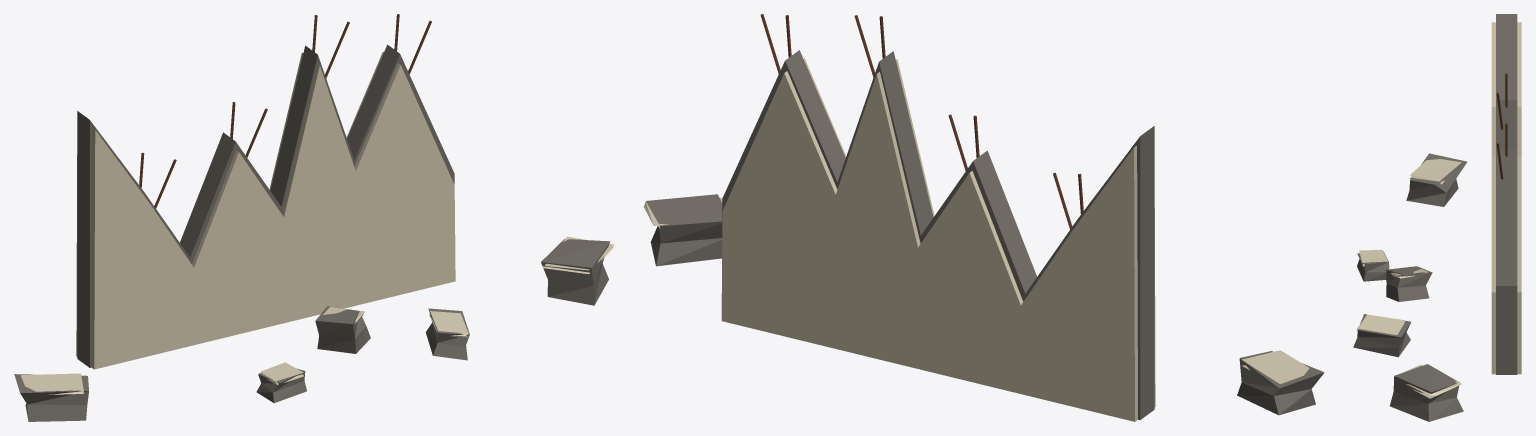
Rendered from DESTROY_02.obj.
3 renders of one model, left to right at view 1: azimuth 30°, elevation 25°; view 2: azimuth 150°, elevation 25°; view 3: azimuth 270°, elevation 25°, orthographic. The views are drawn at different scales.
Visible parts, largest first — view 1: DESTROY_02__skin_front, DESTROY_02__core, DESTROY_02__fragment_1, DESTROY_02__fragment_2, DESTROY_02__fragment_5, DESTROY_02__rebar, DESTROY_02__fragment_3, DESTROY_02__fragment_2_skin, DESTROY_02__fragment_4, DESTROY_02__skin_back, DESTROY_02__fragment_3_skin, DESTROY_02__fragment_4_skin; view 2: DESTROY_02__skin_back, DESTROY_02__core, DESTROY_02__fragment_1, DESTROY_02__fragment_2, DESTROY_02__rebar, DESTROY_02__fragment_2_skin, DESTROY_02__skin_front; view 3: DESTROY_02__core, DESTROY_02__fragment_1, DESTROY_02__skin_back, DESTROY_02__skin_front, DESTROY_02__fragment_2, DESTROY_02__fragment_5, DESTROY_02__fragment_3, DESTROY_02__fragment_2_skin, DESTROY_02__fragment_3_skin, DESTROY_02__fragment_4, DESTROY_02__rebar, DESTROY_02__fragment_4_skin (+1 smaller).
Boxes of the visible parts, left/top/right/bottom form: DESTROY_02__skin_front: left=91, top=63, right=455, bottom=369; DESTROY_02__core: left=77, top=44, right=454, bottom=367; DESTROY_02__fragment_1: left=541, top=239, right=610, bottom=305; DESTROY_02__fragment_2: left=14, top=374, right=88, bottom=421; DESTROY_02__fragment_5: left=315, top=306, right=370, bottom=353; DESTROY_02__rebar: left=139, top=14, right=431, bottom=208; DESTROY_02__fragment_3: left=425, top=308, right=469, bottom=360; DESTROY_02__fragment_2_skin: left=20, top=373, right=83, bottom=394; DESTROY_02__fragment_4: left=256, top=368, right=306, bottom=402; DESTROY_02__skin_back: left=76, top=52, right=383, bottom=356; DESTROY_02__fragment_3_skin: left=429, top=311, right=468, bottom=338; DESTROY_02__fragment_4_skin: left=260, top=362, right=303, bottom=384; DESTROY_02__skin_back: left=721, top=71, right=1137, bottom=421; DESTROY_02__core: left=722, top=50, right=1154, bottom=419; DESTROY_02__fragment_1: left=646, top=194, right=722, bottom=266; DESTROY_02__fragment_2: left=1237, top=351, right=1324, bottom=415; DESTROY_02__rebar: left=760, top=14, right=1083, bottom=229; DESTROY_02__fragment_2_skin: left=1242, top=350, right=1309, bottom=384; DESTROY_02__skin_front: left=803, top=58, right=1155, bottom=407; DESTROY_02__core: left=1496, top=14, right=1517, bottom=374; DESTROY_02__fragment_1: left=1390, top=364, right=1463, bottom=421; DESTROY_02__skin_back: left=1517, top=22, right=1521, bottom=374; DESTROY_02__skin_front: left=1491, top=22, right=1495, bottom=374; DESTROY_02__fragment_2: left=1406, top=153, right=1467, bottom=206; DESTROY_02__fragment_5: left=1386, top=266, right=1432, bottom=301; DESTROY_02__fragment_3: left=1353, top=314, right=1410, bottom=357; DESTROY_02__fragment_2_skin: left=1409, top=159, right=1461, bottom=184; DESTROY_02__fragment_3_skin: left=1356, top=314, right=1405, bottom=335; DESTROY_02__fragment_4: left=1357, top=251, right=1389, bottom=281; DESTROY_02__rebar: left=1496, top=73, right=1507, bottom=179; DESTROY_02__fragment_4_skin: left=1359, top=249, right=1387, bottom=266.
Bounding box in the file's own units: 6.52 × 3.08 × 1.89.
